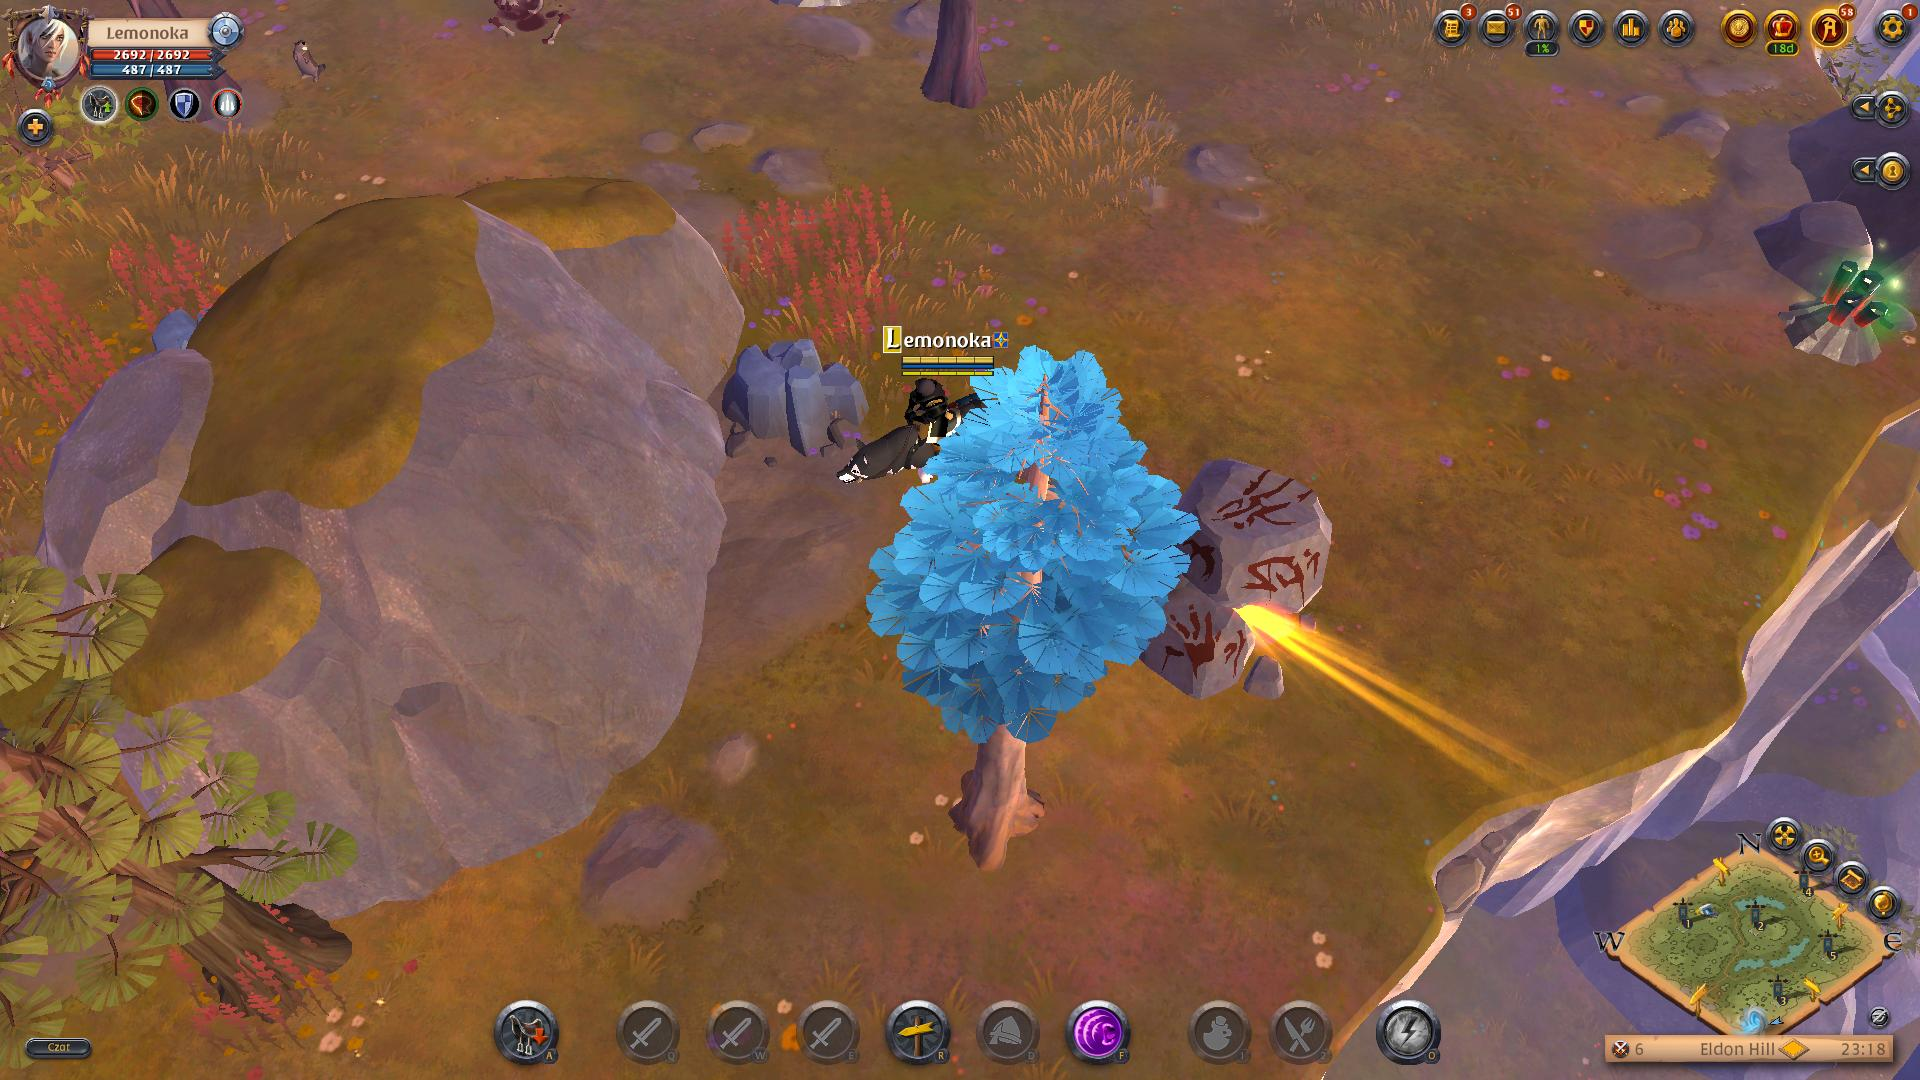ore tier 5: (1782, 255, 1896, 380)
rock tier 4: (712, 335, 866, 455)
wood tier 4: (861, 353, 1201, 752)
